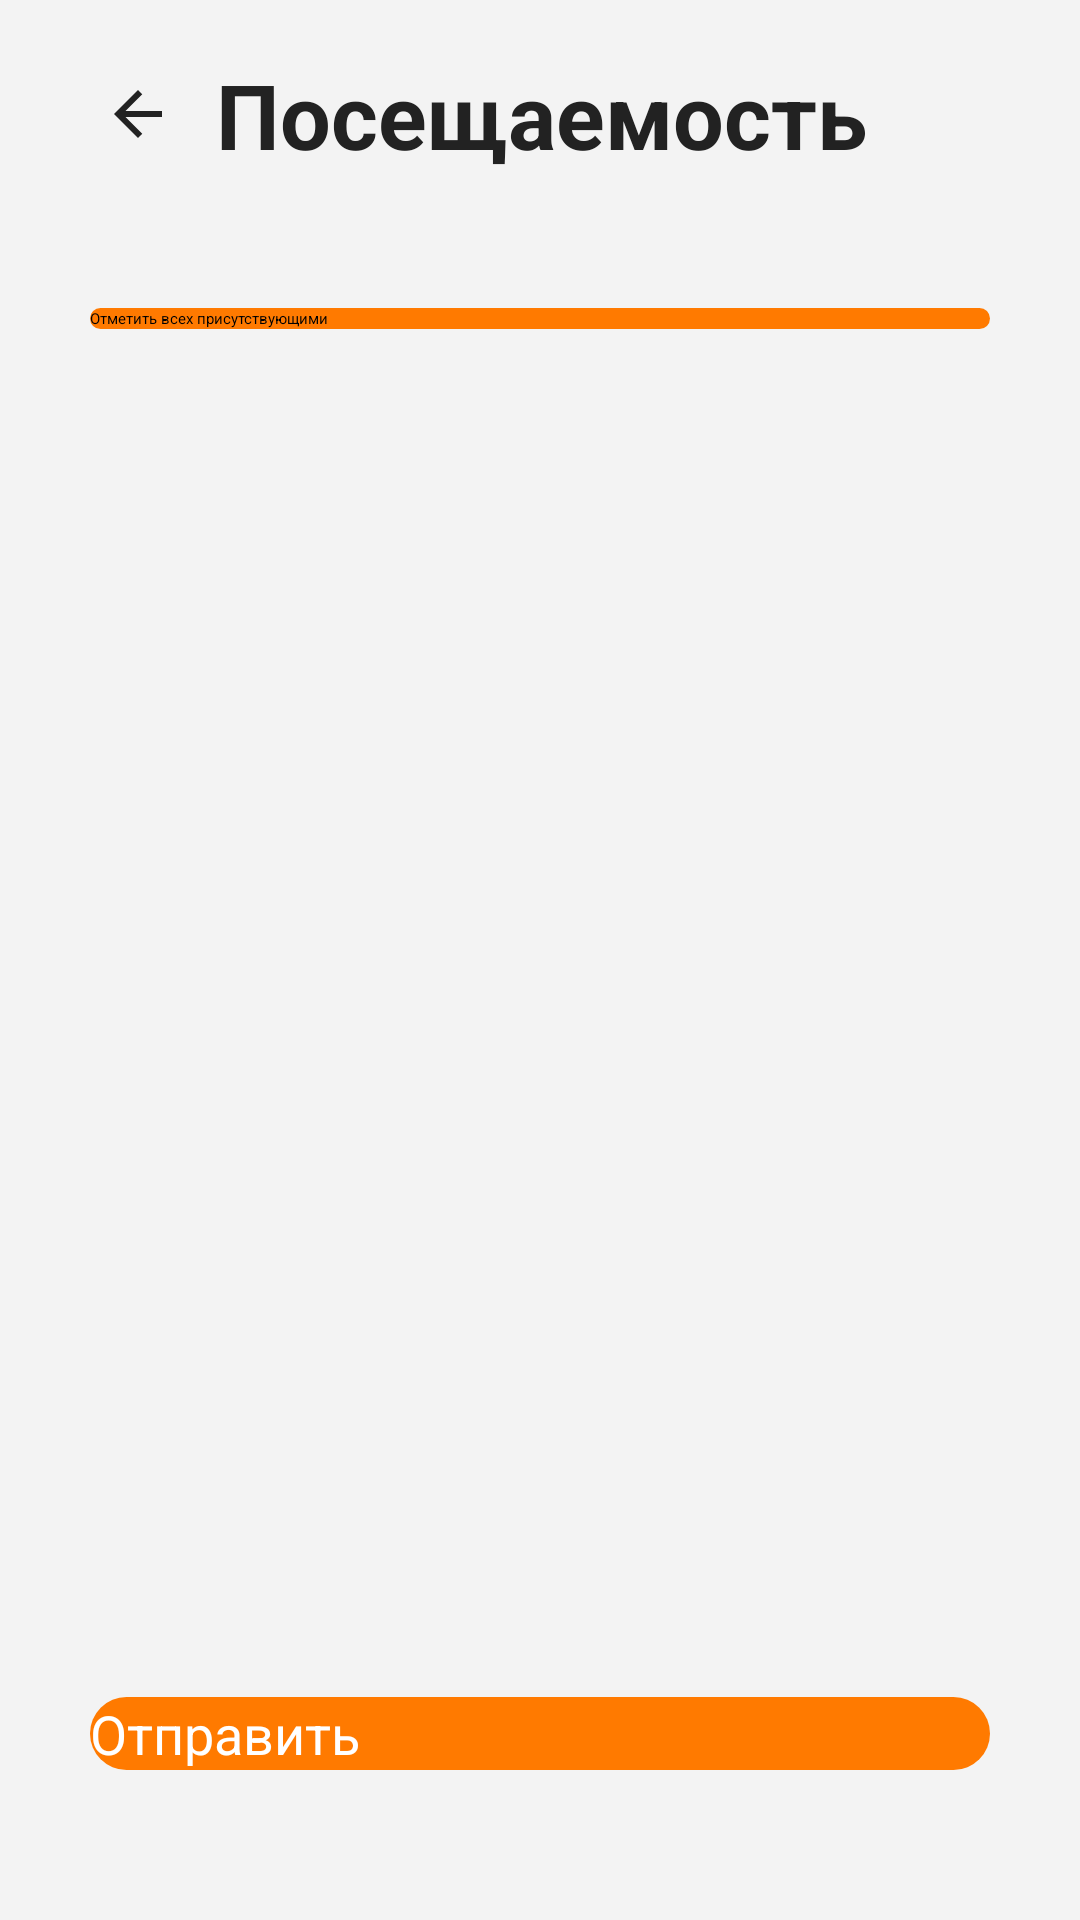

Screen size 1080px x 1920px. Icon name, then its box in pixels as (x1, y1, x2, y2):
Назад: (114, 90, 162, 138)
